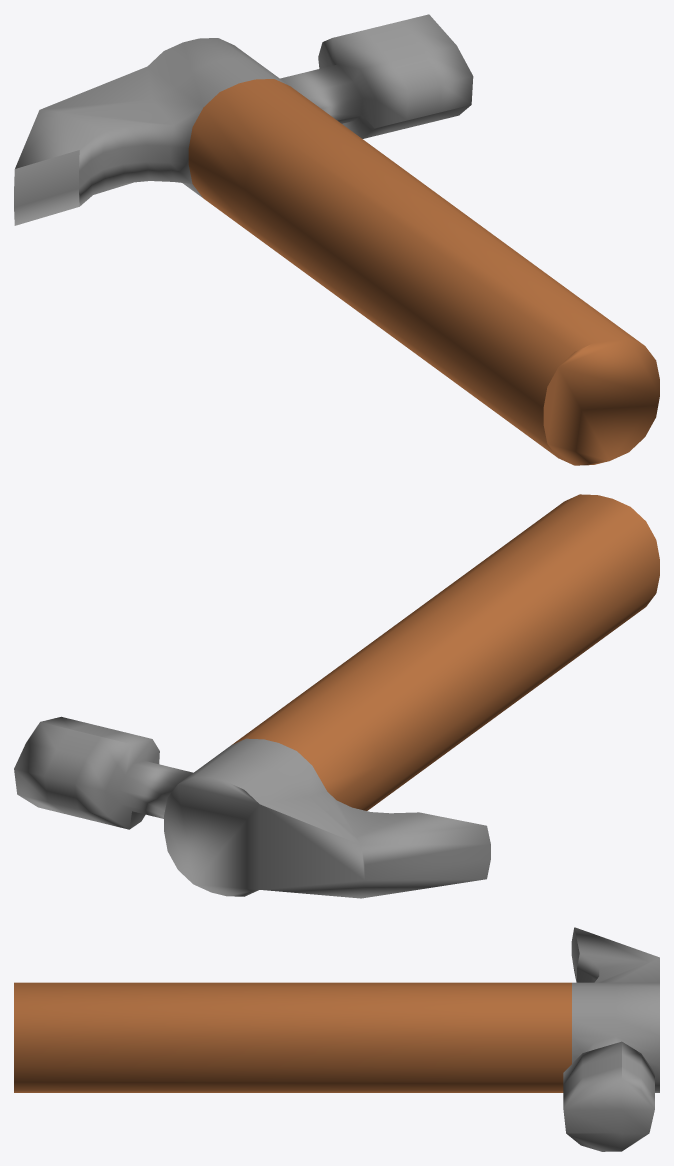
The model's file is hammer.glb.
3 renders of one model, top to bottom at view 1: azimuth 30°, elevation 25°; view 2: azimuth 150°, elevation 25°; view 3: azimuth 270°, elevation 25°, orthographic. The views are drawn at different scales.
Visible parts, largest first — view 1: Cube; view 2: Cube; view 3: Cube.
Part boxes in pixels (x1,y1,x2,y2): Cube: (14, 14, 659, 465); Cube: (14, 494, 659, 898); Cube: (14, 927, 659, 1151).
Size of the model in its own units: 14.04 by 3.6 by 22.
